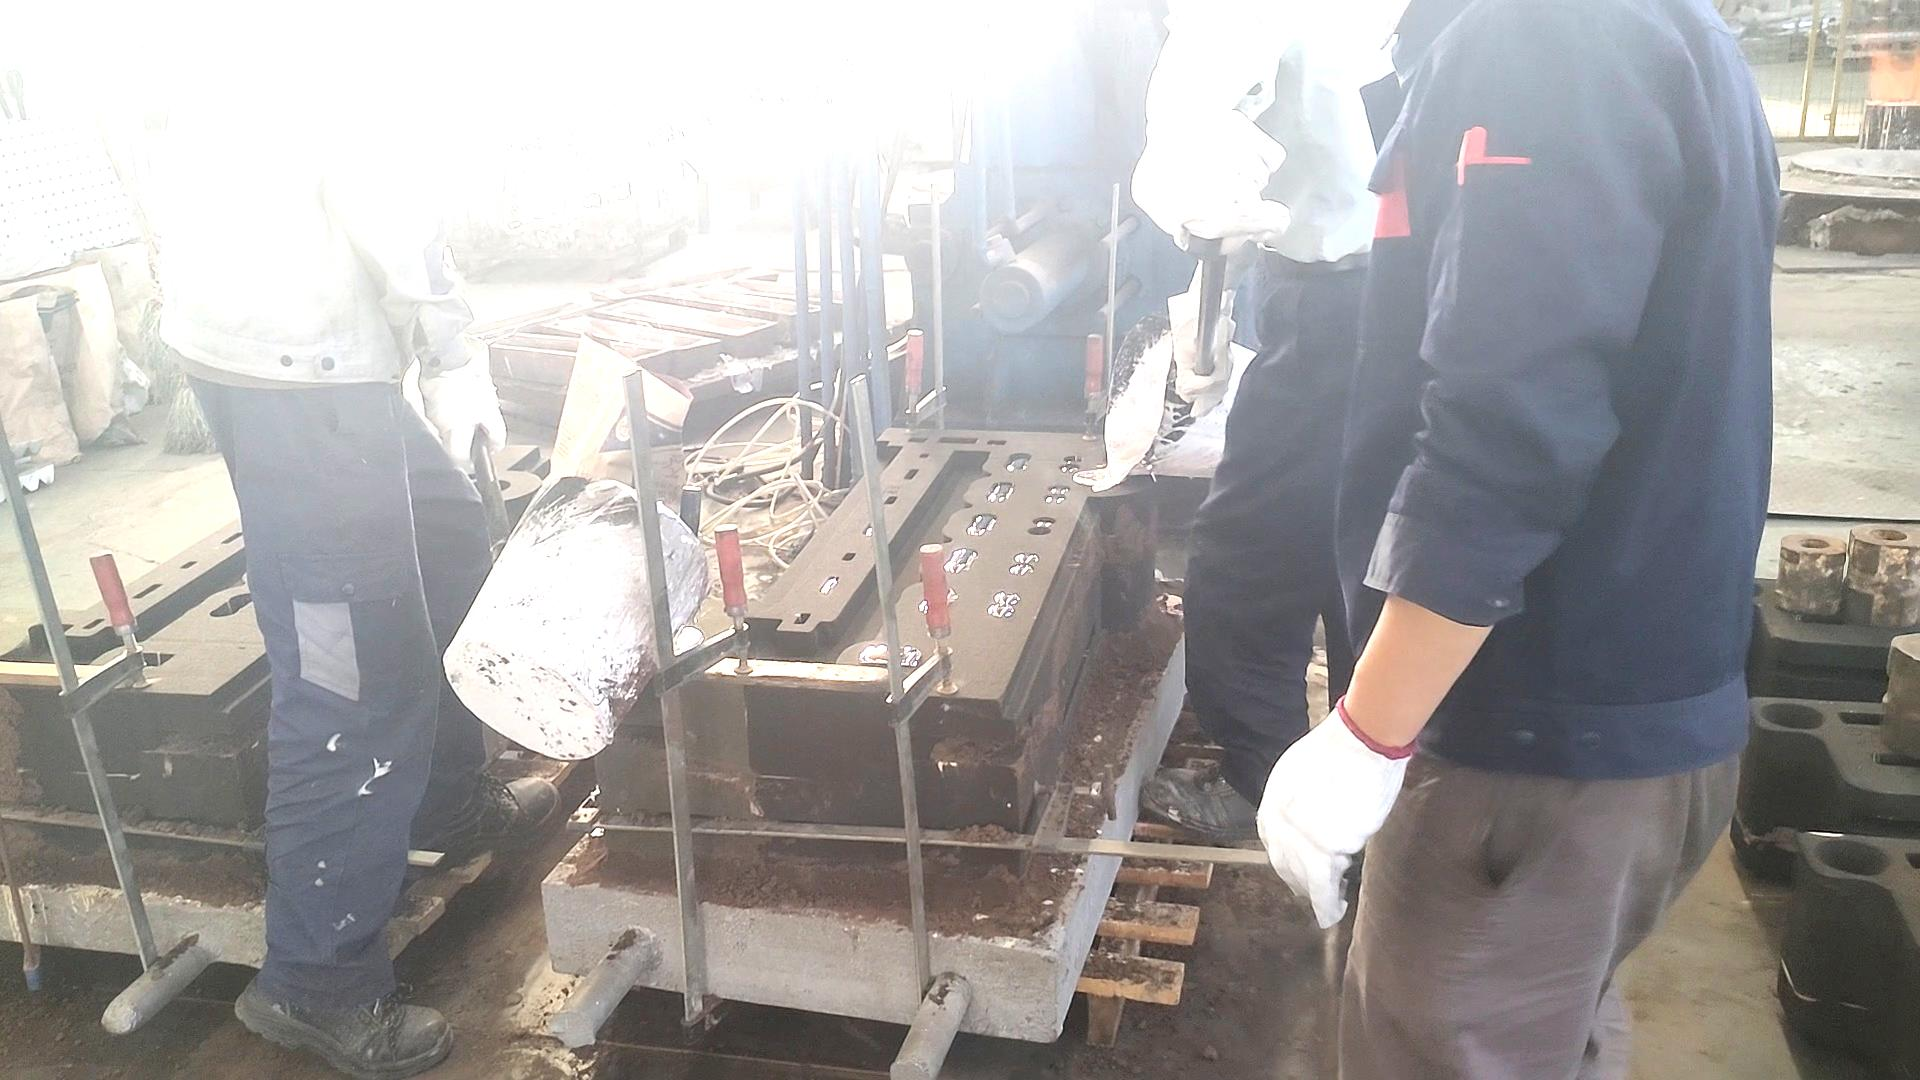pouring hole: (1809, 837, 1894, 880), (1756, 702, 1825, 732), (658, 625, 705, 655), (1717, 571, 1767, 597), (462, 475, 512, 497), (1088, 465, 1131, 487)
